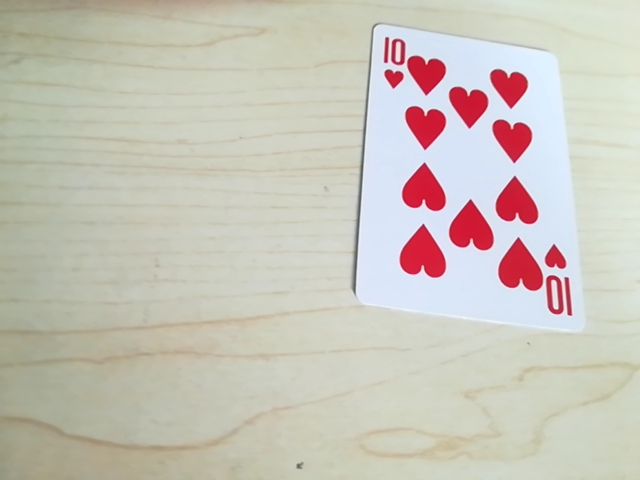hx 10: (379, 23, 423, 94), (542, 248, 577, 325)
